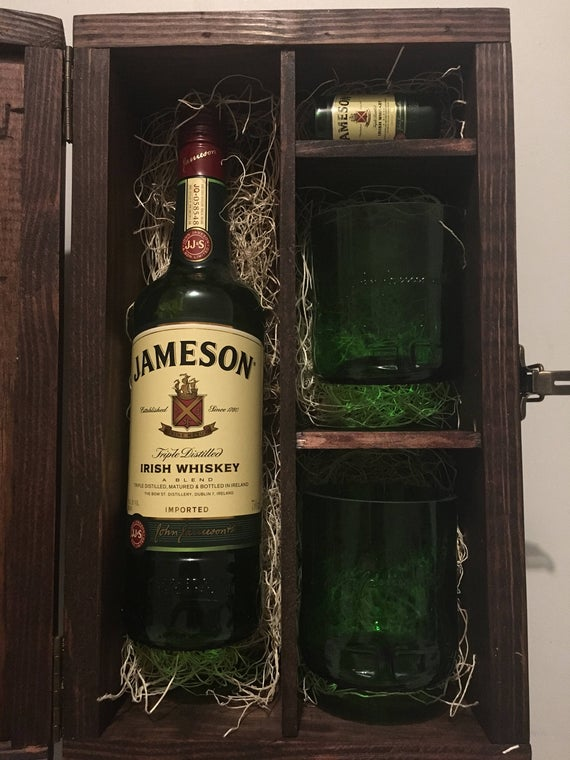Jameson: (116, 118, 273, 658)
